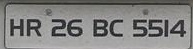character: (168, 18, 187, 38), (24, 17, 42, 37), (8, 17, 25, 38), (146, 18, 163, 38), (66, 18, 83, 37), (91, 18, 108, 37), (50, 17, 66, 37), (108, 18, 124, 38), (131, 18, 147, 38), (162, 18, 168, 38)
